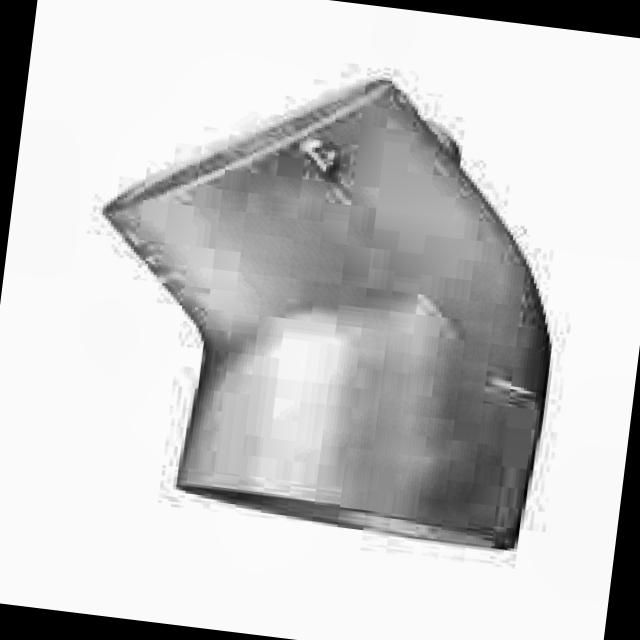ELBOW45: (103, 74, 554, 553)
